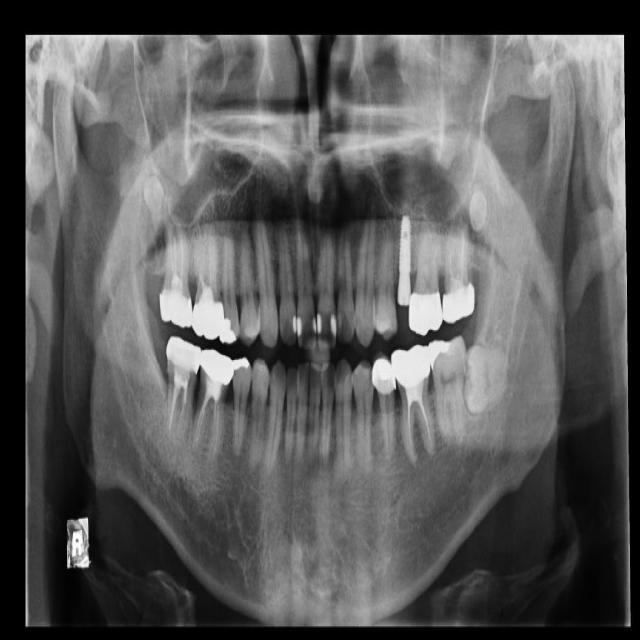52: (388, 341, 437, 392), (190, 343, 242, 391), (159, 334, 208, 377), (404, 288, 446, 338), (435, 283, 481, 326), (427, 336, 469, 381), (371, 350, 398, 401), (159, 291, 194, 330), (191, 303, 224, 339), (296, 298, 318, 348), (316, 299, 336, 349), (278, 298, 297, 347), (219, 301, 240, 344), (232, 357, 252, 396)
73: (190, 366, 230, 461), (396, 378, 437, 465), (160, 205, 197, 299), (441, 212, 478, 296), (189, 216, 222, 306), (166, 358, 196, 443), (597, 556, 601, 568)
BioHorizons Implant: (440, 211, 480, 325)
Biomet 3i Implant: (462, 343, 510, 415)
Blue Sky Bio Implant: (428, 334, 467, 441)
Caries: (159, 204, 193, 332)
Implant: (162, 335, 203, 444)
